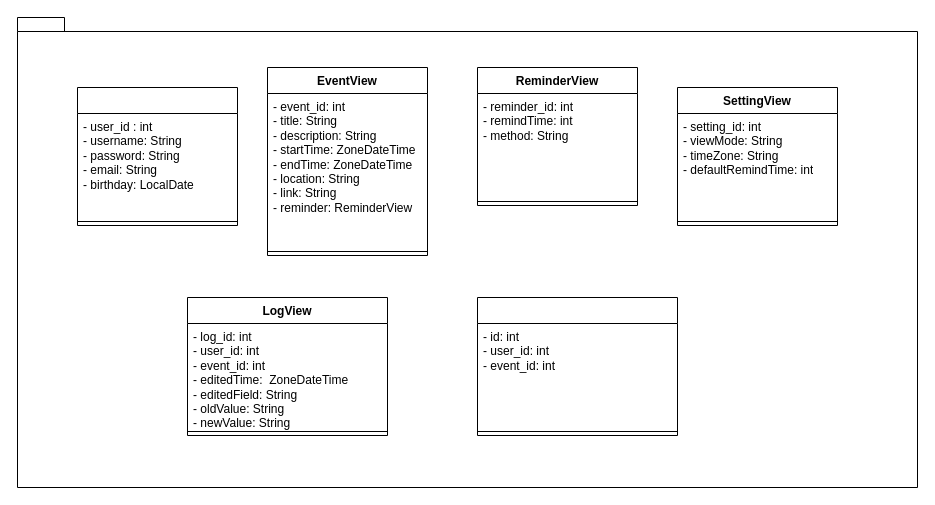
Some shapes in this 935 by 505 pixel diagram are drawn without their labels. Each missing label, with the box of its shape:
AccountView: (76, 86, 238, 226)
UserjoinEventView: (476, 296, 678, 436)
